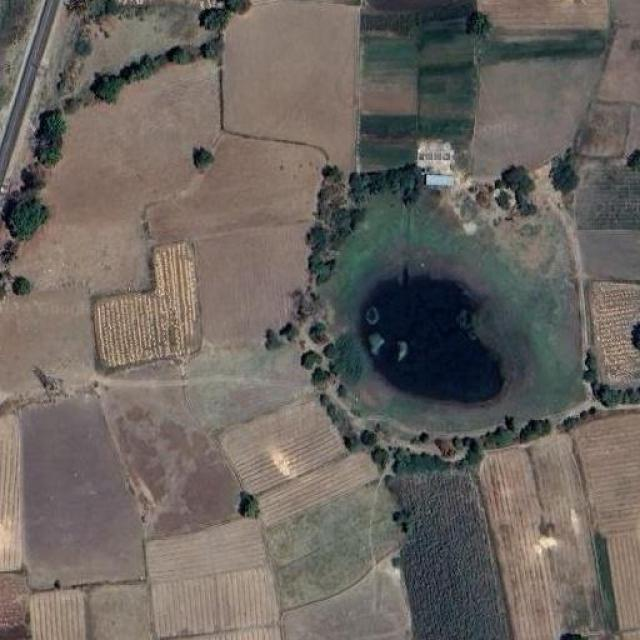land-Sx1C: (14, 60, 219, 292), (146, 132, 326, 344), (479, 434, 604, 639), (20, 396, 145, 589), (224, 0, 359, 172), (102, 388, 240, 538), (394, 471, 511, 639), (265, 485, 402, 609), (472, 55, 602, 178), (148, 519, 281, 639), (572, 412, 640, 639), (94, 241, 200, 368), (220, 400, 346, 493), (185, 344, 312, 432), (281, 555, 411, 640), (575, 0, 640, 158), (0, 289, 95, 397), (153, 568, 278, 638), (261, 452, 378, 526), (149, 519, 265, 582), (418, 40, 475, 149), (589, 281, 640, 386), (361, 36, 418, 114), (576, 168, 640, 230), (86, 584, 152, 640), (0, 414, 22, 571), (579, 230, 640, 281), (30, 590, 86, 640), (359, 135, 416, 171), (0, 572, 28, 639), (360, 115, 416, 137)
